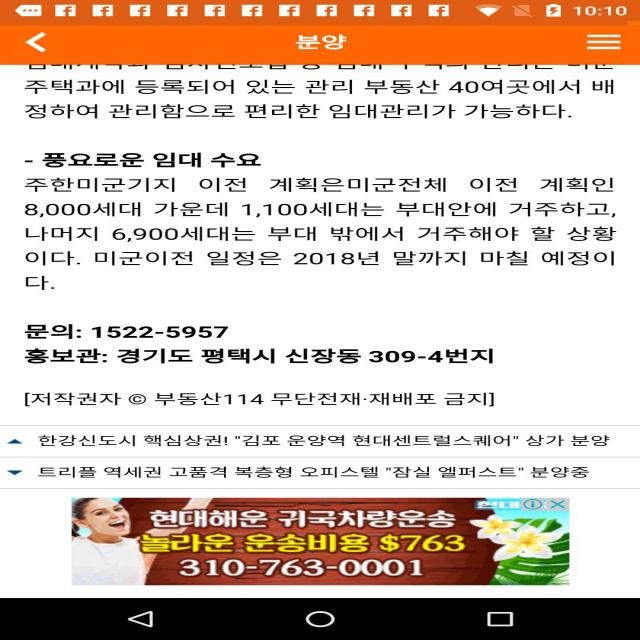button: (0, 27, 71, 68), (558, 24, 640, 56), (2, 431, 42, 490)
text: (2, 149, 638, 295), (2, 314, 582, 411), (21, 61, 640, 129), (25, 430, 640, 489), (276, 26, 398, 60)
